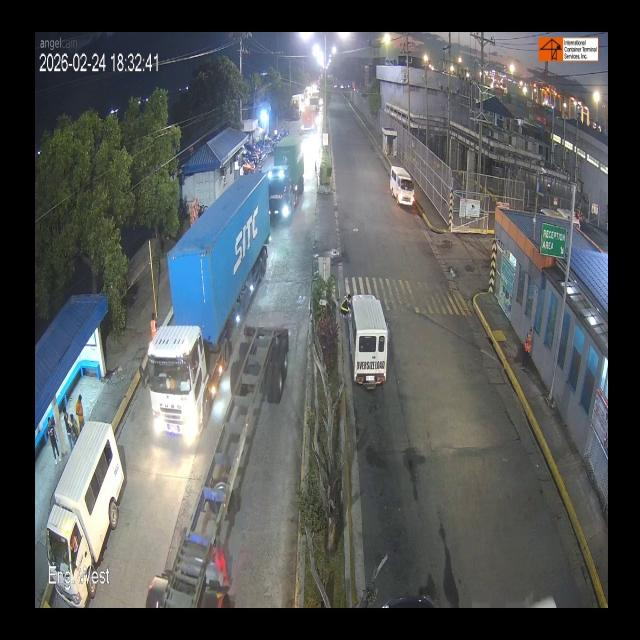car: (49, 433, 132, 568), (346, 282, 384, 389), (386, 158, 418, 212)
truck: (142, 323, 298, 602), (142, 167, 282, 454), (266, 137, 306, 227), (287, 95, 303, 125)
